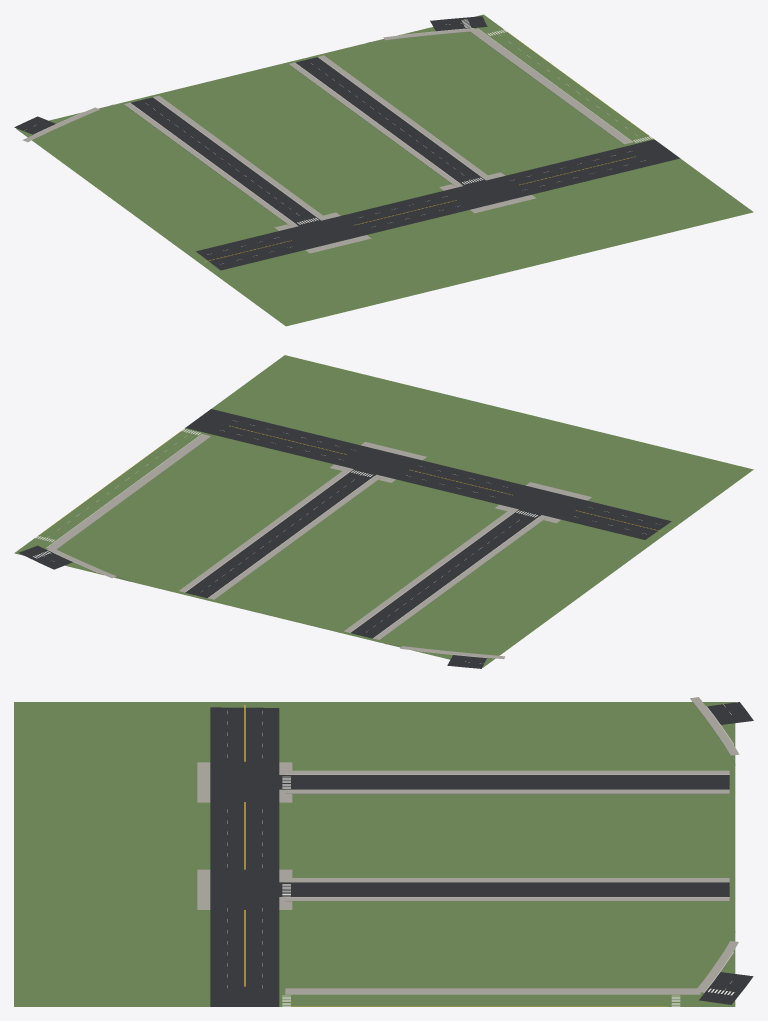
File: Ground_3_0.fbx
The picture shows the model from 3 angles, top to bottom: view 1: azimuth 30°, elevation 25°; view 2: azimuth 150°, elevation 25°; view 3: azimuth 270°, elevation 25°; orthographic projection. The views are drawn at different scales.
Parts seen in each view (by area): view 1: Ground_3_0; view 2: Ground_3_0; view 3: Ground_3_0.
Boxes of the visible parts, x1=… form: Ground_3_0: x1=14, y1=14, x2=753, y2=326; Ground_3_0: x1=14, y1=355, x2=753, y2=668; Ground_3_0: x1=14, y1=697, x2=753, y2=1006.
Bounding box in the file's own units: 254 × 0.14 × 256.
